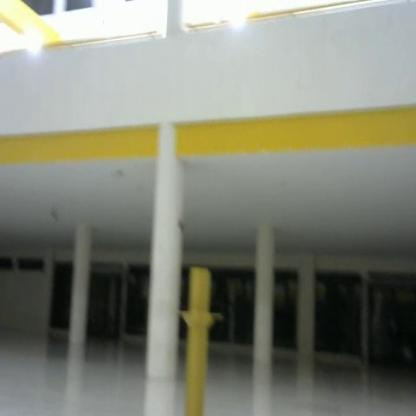pole: (173, 265, 226, 416)
